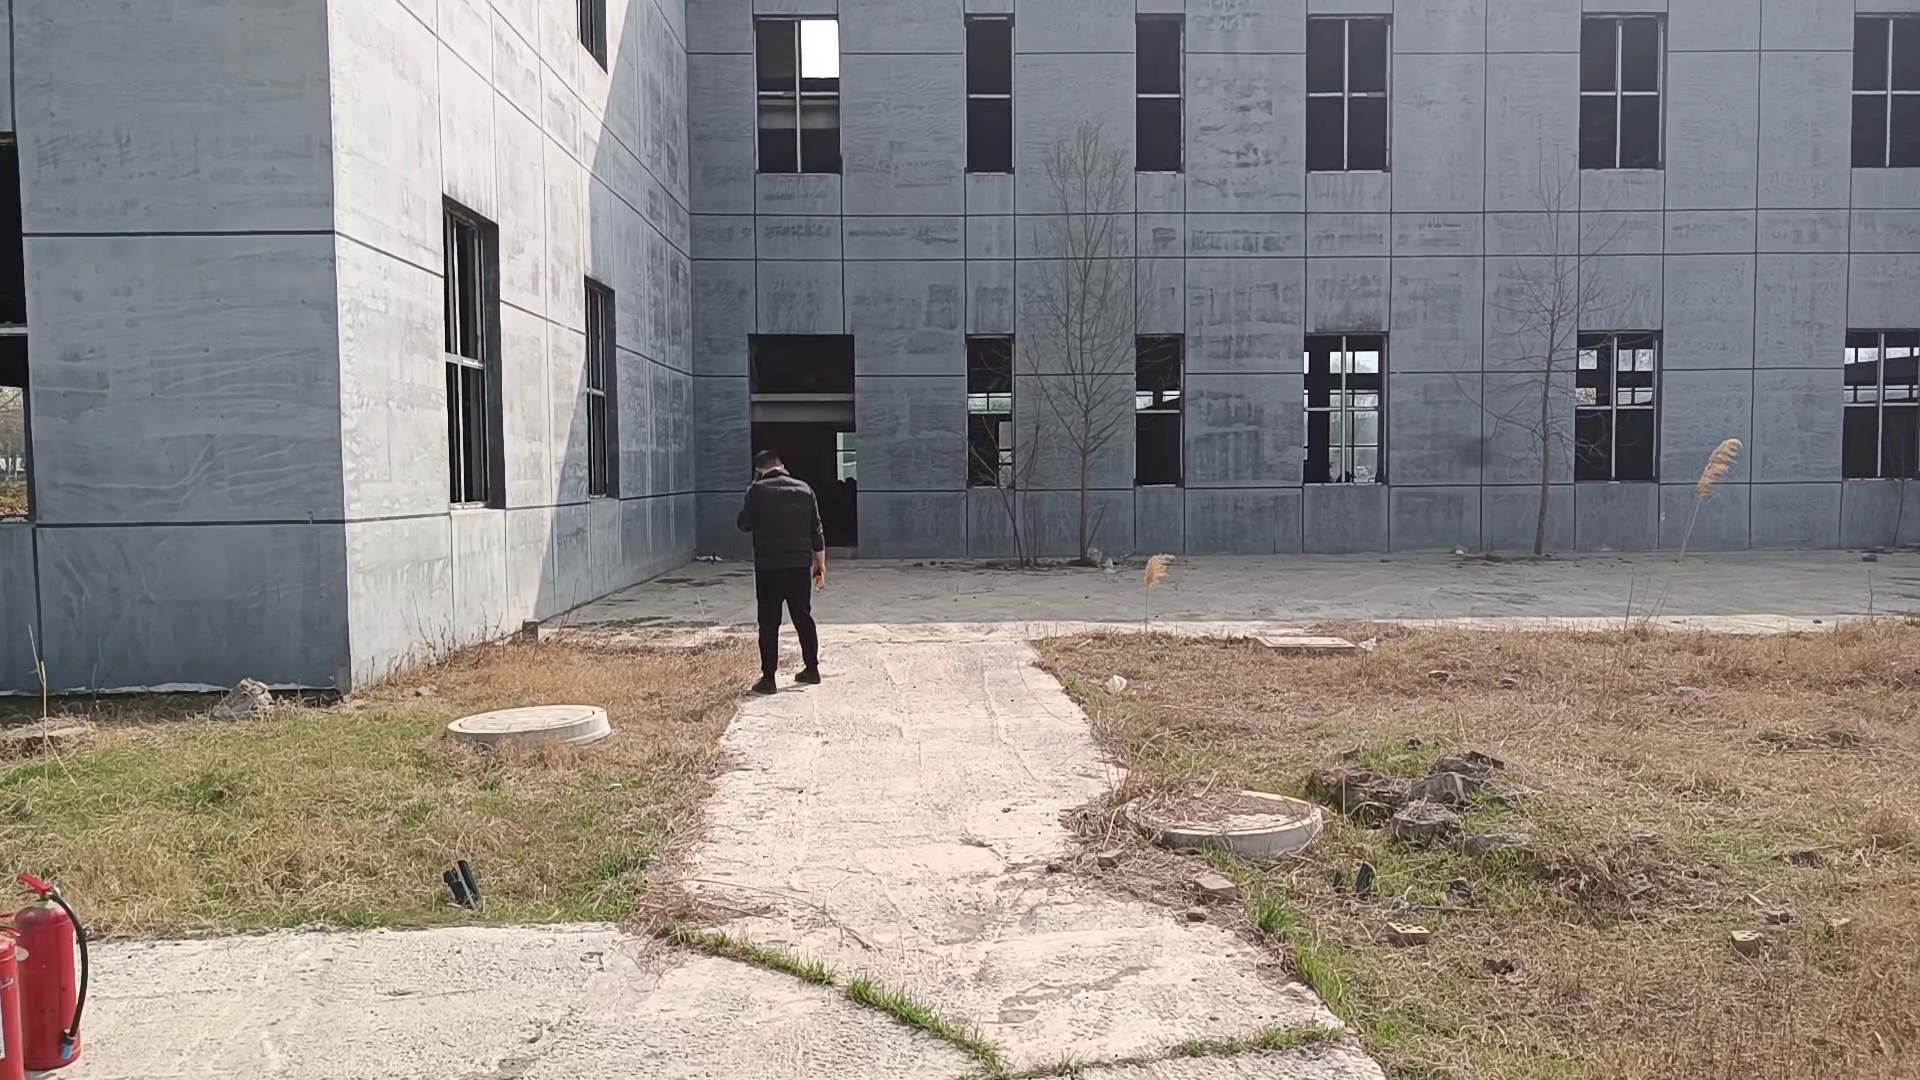phone: (737, 446, 786, 491)
